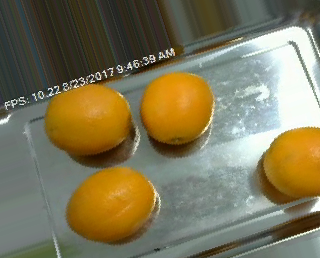Orange: (65, 166, 156, 241), (44, 82, 131, 154), (140, 72, 214, 145)
